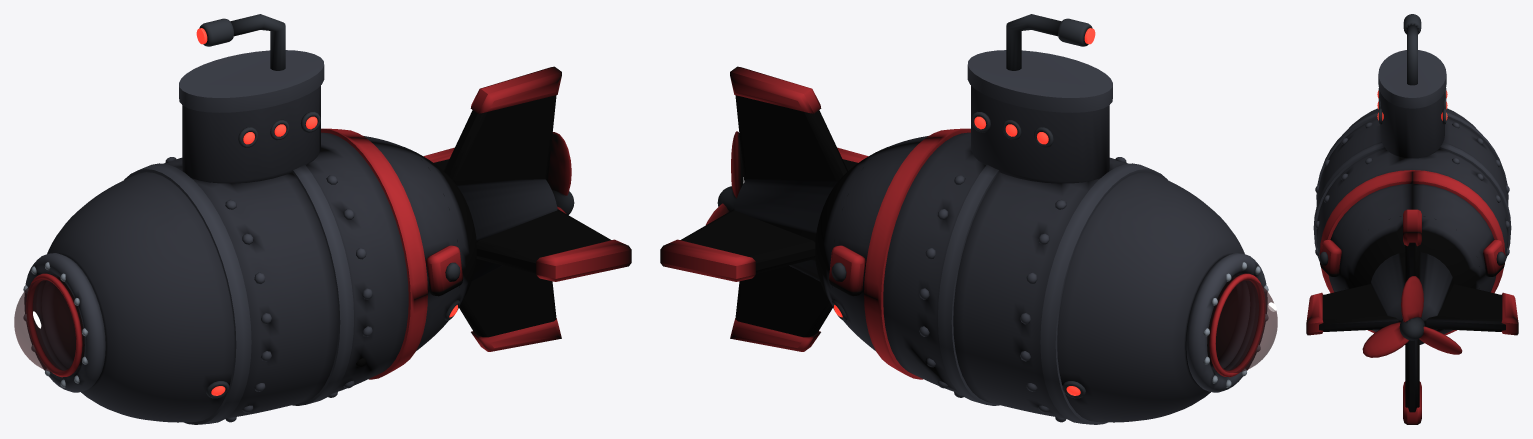
File: enemy_scout.glb
3 views of the same model, side by side, from view 1: azimuth 30°, elevation 25°; view 2: azimuth 150°, elevation 25°; view 3: azimuth 270°, elevation 25° (orthographic). The views are drawn at different scales.
Visible parts, largest first — view 1: enemy_scout_body, propeller.001; view 2: enemy_scout_body, propeller.001; view 3: enemy_scout_body, propeller.001.
Boxes of the visible parts, <box> form: enemy_scout_body: <box>14,14,631,424</box>; propeller.001: <box>547,132,574,214</box>; enemy_scout_body: <box>660,14,1277,424</box>; propeller.001: <box>706,131,743,224</box>; enemy_scout_body: <box>1306,14,1518,424</box>; propeller.001: <box>1362,276,1462,357</box>.
Bounding box in the file's own units: 3.14 × 2.16 × 1.45.
